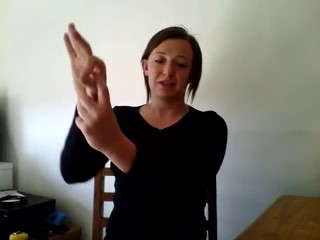Q: (56, 19, 123, 153)
